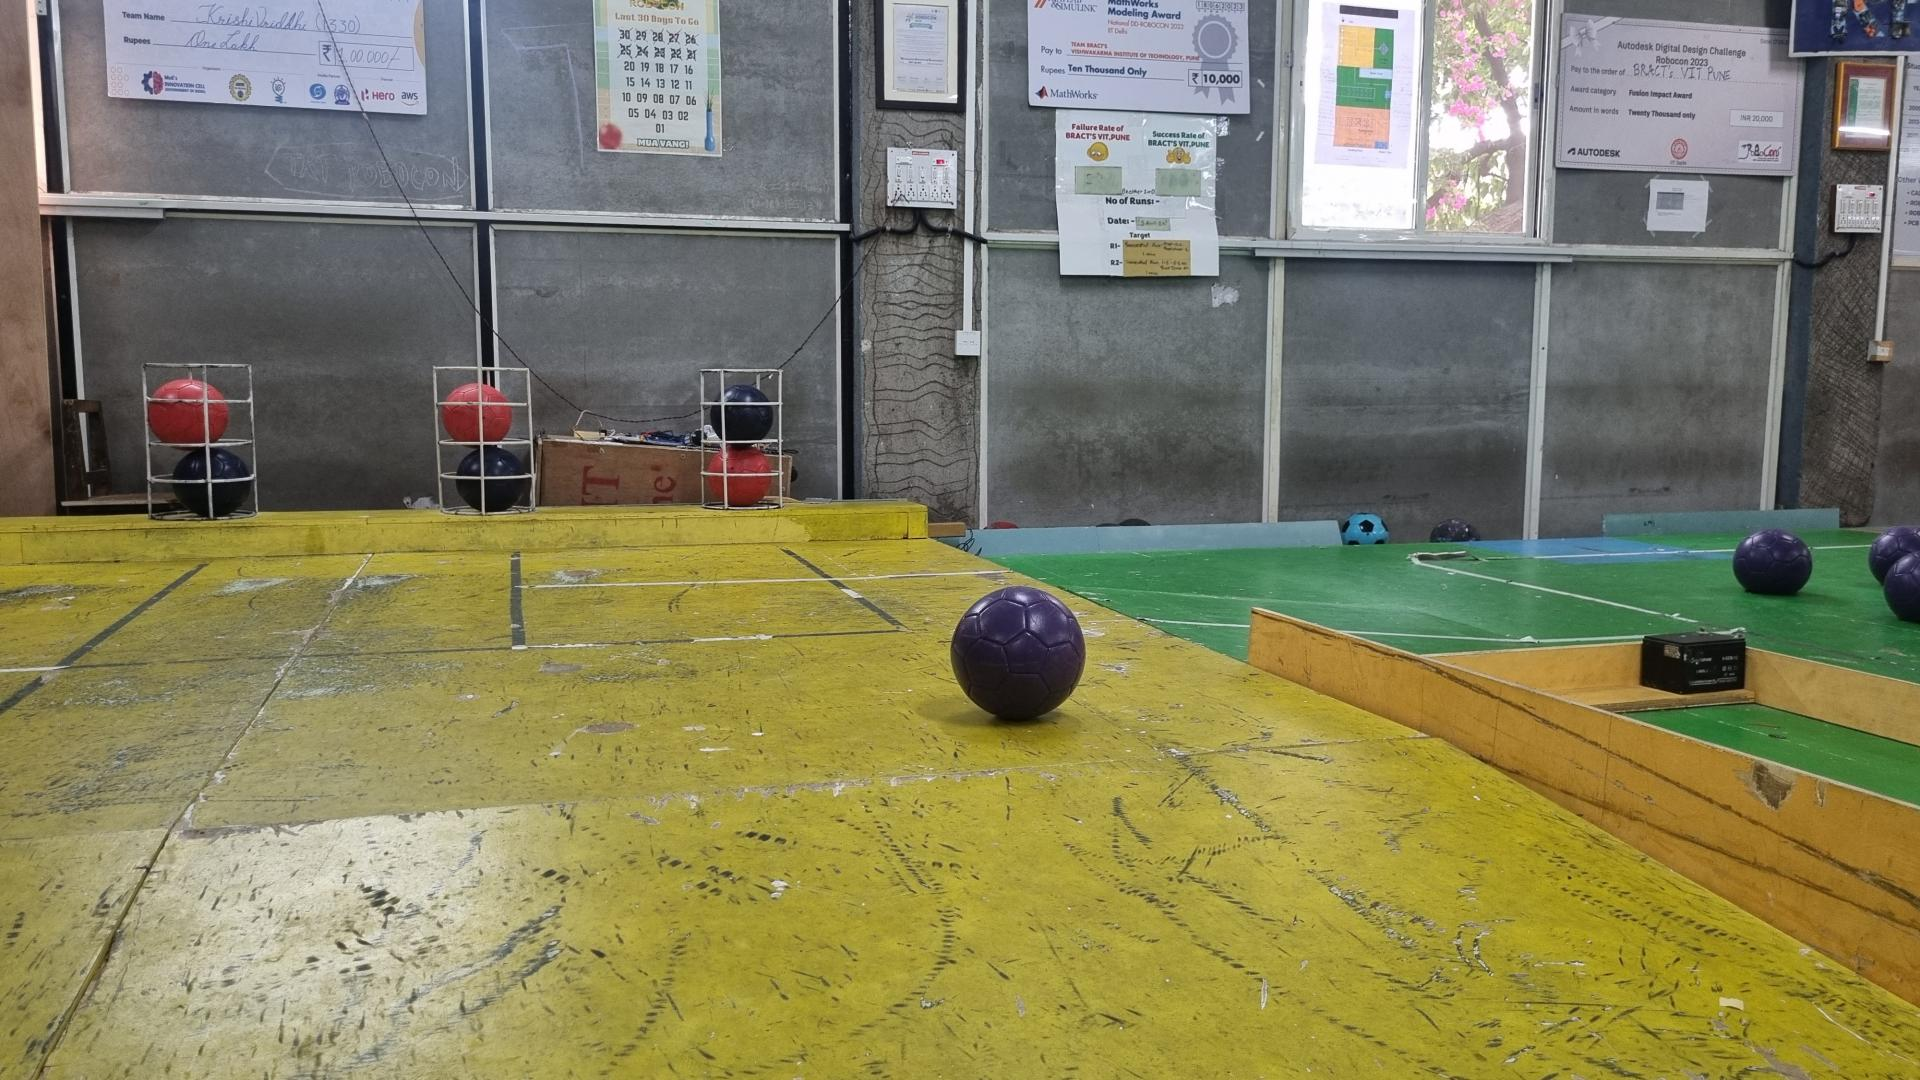dhoka: (173, 446, 252, 517), (454, 446, 525, 513), (708, 382, 777, 442)
laale: (146, 378, 228, 446), (443, 382, 514, 442), (705, 446, 773, 506)
